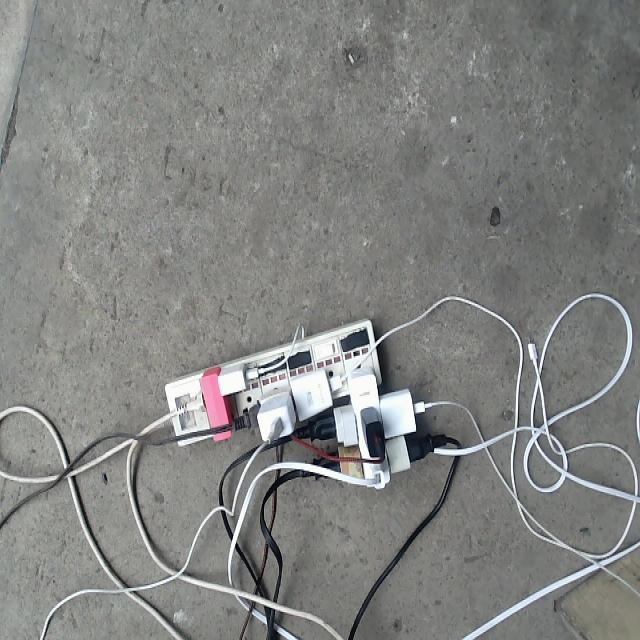-: (161, 320, 427, 489)
